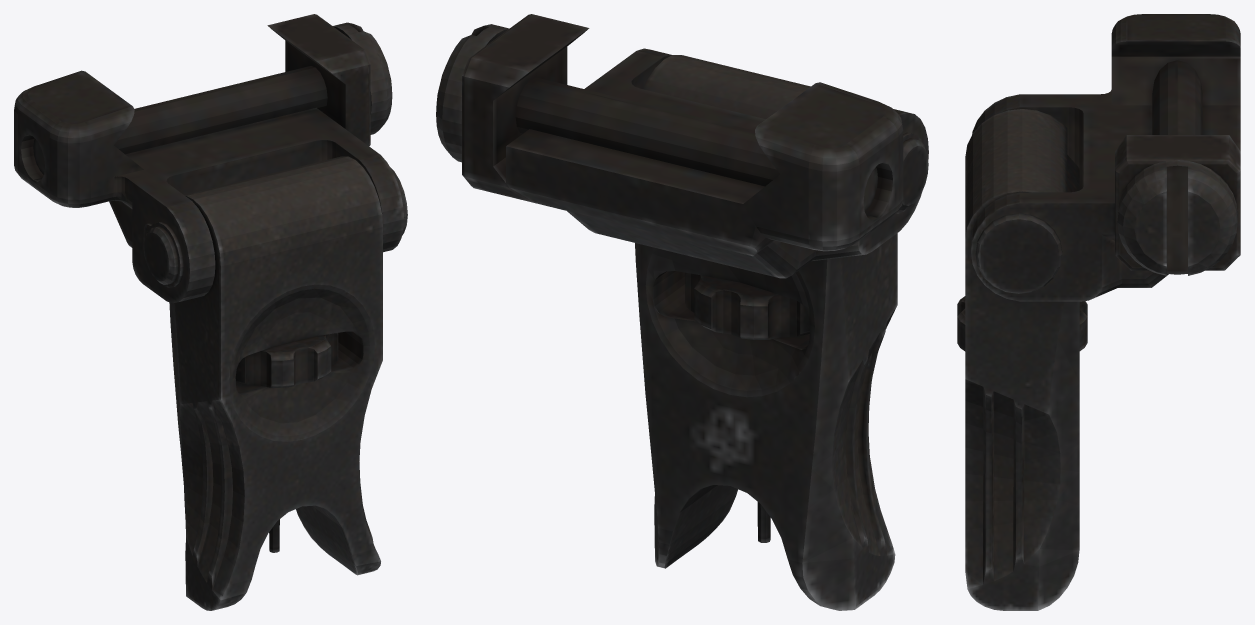
The picture shows the model from 3 angles, left to right: view 1: azimuth 30°, elevation 25°; view 2: azimuth 150°, elevation 25°; view 3: azimuth 270°, elevation 25°; orthographic projection. The views are drawn at different scales.
Visible parts, largest first — view 1: TW_5dfa3d950dee1b22f862eae0_PZ_Import; view 2: TW_5dfa3d950dee1b22f862eae0_PZ_Import; view 3: TW_5dfa3d950dee1b22f862eae0_PZ_Import.
Boxes of the visible parts, x1,y1,x2,y2 form: TW_5dfa3d950dee1b22f862eae0_PZ_Import: (14,14,407,610); TW_5dfa3d950dee1b22f862eae0_PZ_Import: (436,14,928,610); TW_5dfa3d950dee1b22f862eae0_PZ_Import: (957,14,1240,610).
Bounding box in the file's own units: 0.018 × 0.0125 × 0.0235.
Materials: 1 (1 with a texture image).
